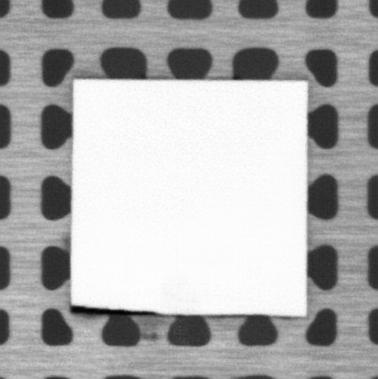DIE_BROKEN: (68, 303, 160, 317)
